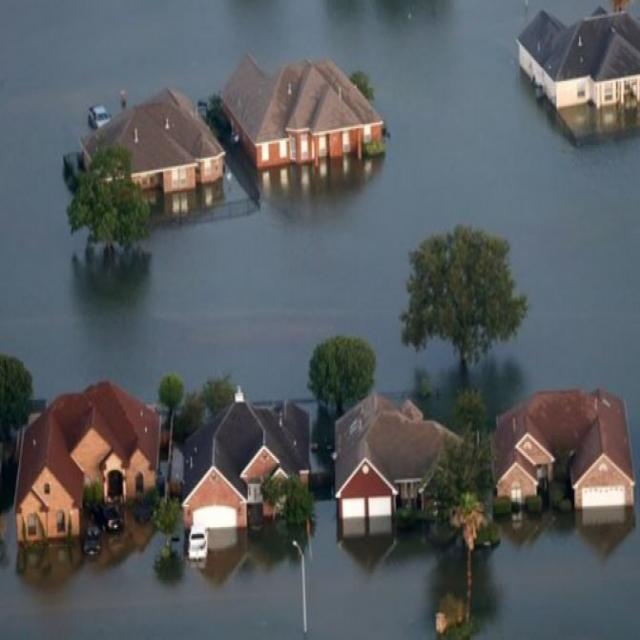flood: (0, 0, 640, 640), (0, 503, 466, 640)
house: (17, 375, 169, 558), (222, 44, 396, 194), (79, 81, 233, 227), (177, 384, 291, 559), (498, 386, 640, 526), (515, 0, 638, 150), (336, 386, 450, 540)
